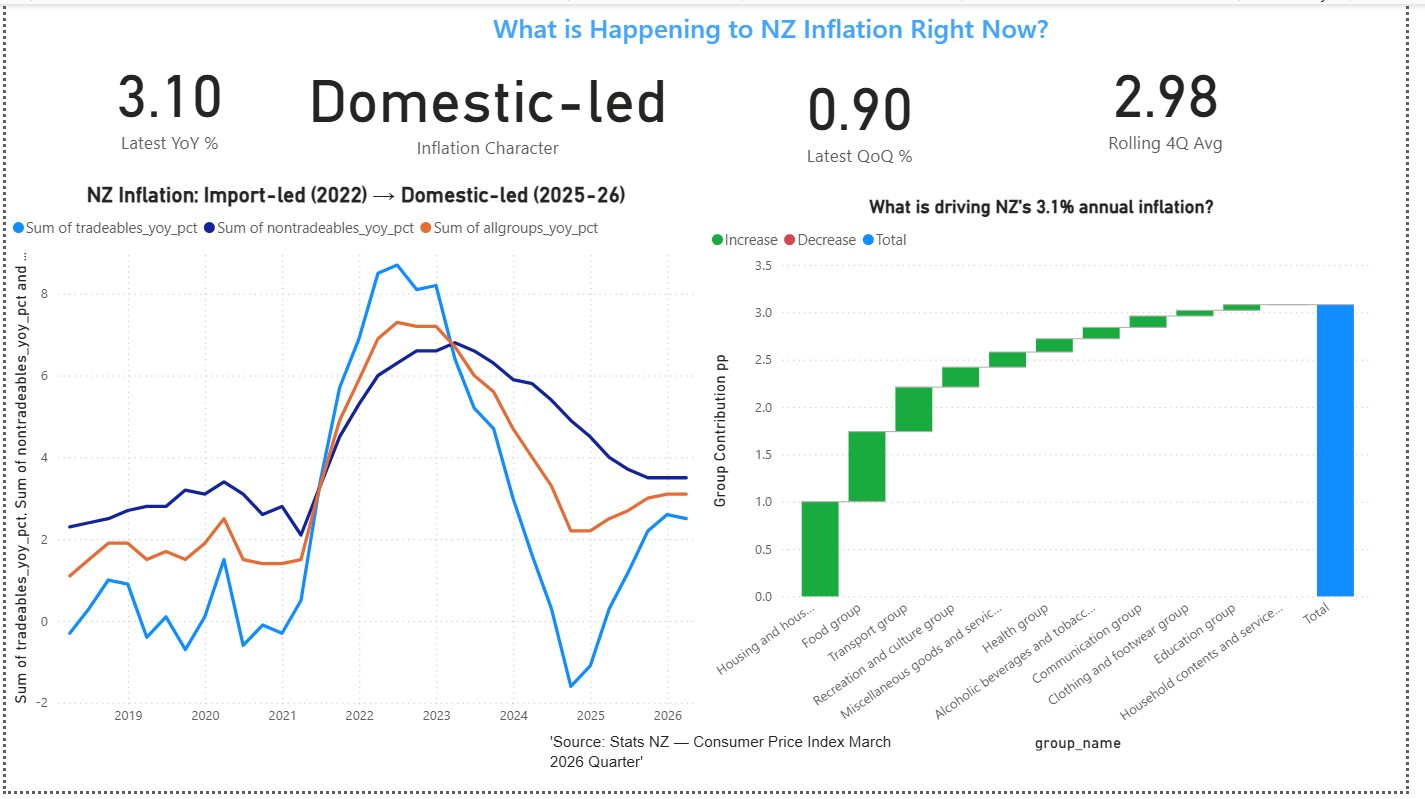

This screenshot's page, from the dashboard's own definition file:
{"tool":"powerbi","page":{"name":"Headline","canvas":[1280,720],"ordinal":0},"visuals":[{"type":"card","fields":{"Values":["cpi_allgroups.Latest YoY %"]},"box":[9.4,0,279.7,175.7],"z":0},{"type":"card","fields":{"Values":["cpi_allgroups.Latest QoQ %"]},"box":[640.6,22.7,279.7,153.1],"z":1000},{"type":"card","fields":{"Values":["cpi_allgroups.Inflation Character"]},"box":[240,22.7,400.6,138],"z":2000},{"type":"card","fields":{"Values":["cpi_allgroups.Rolling 4Q Avg"]},"box":[920.3,15.1,279.7,145.5],"z":3000},{"type":"lineChart","title":"NZ Inflation: Import-led (2022) → Domestic-led (2025-26)","fields":{"Y":["Sum(cpi_allgroups.tradeables_yoy_pct)","Sum(cpi_allgroups.nontradeables_yoy_pct)","Sum(cpi_allgroups.allgroups_yoy_pct)"],"Category":["cpi_allgroups.period_date"]},"box":[0,162,640,526],"z":4000},{"type":"waterfallChart","title":"What is driving NZ''s 3.1% annual inflation?","fields":{"Category":["cpi_groups.group_name"],"Y":["cpi_groups.Group Contribution pp"]},"box":[640,176,616,512],"z":5000},{"type":"textbox","box":[492,660,340,60],"z":6000},{"type":"textbox","box":[440,0,620,48],"z":7000}]}

Visuals, with their boxes in screenshot pixels (x1, y1, x2, y2), scaled from the page's 1280x720 canvas onto the 1425x799 screenshot:
card - cpi_allgroups.Latest YoY %: locate(10, 0, 322, 195)
card - cpi_allgroups.Latest QoQ %: locate(713, 25, 1025, 195)
card - cpi_allgroups.Inflation Character: locate(267, 25, 713, 178)
card - cpi_allgroups.Rolling 4Q Avg: locate(1025, 17, 1336, 178)
"NZ Inflation: Import-led (2022) → Domestic-led (2025-26)" lineChart: locate(0, 180, 712, 763)
"What is driving NZ''s 3.1% annual inflation?" waterfallChart: locate(712, 195, 1398, 763)
textbox: locate(548, 732, 926, 798)
textbox: locate(490, 0, 1180, 53)
